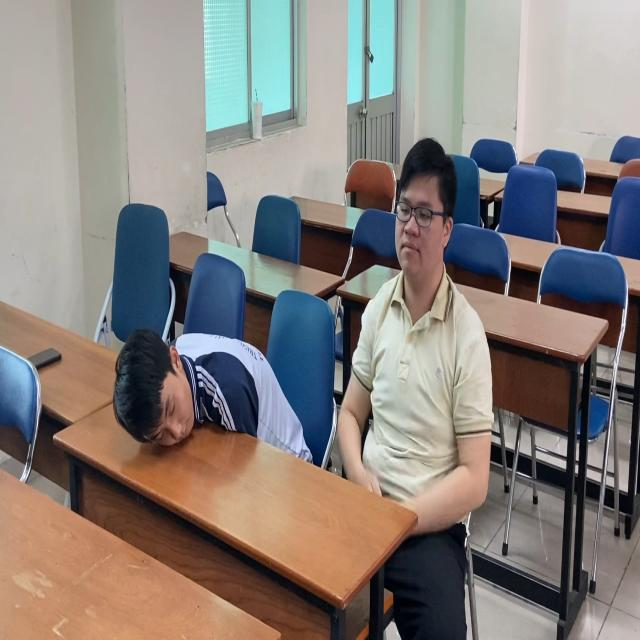sleep: (112, 332, 315, 467)
